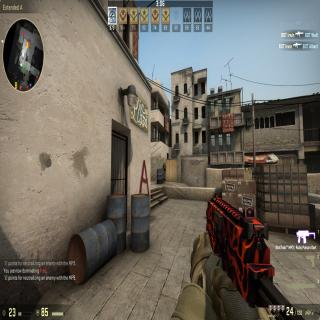T-Body: (162, 161, 166, 182)
T-Head: (162, 161, 165, 165)
